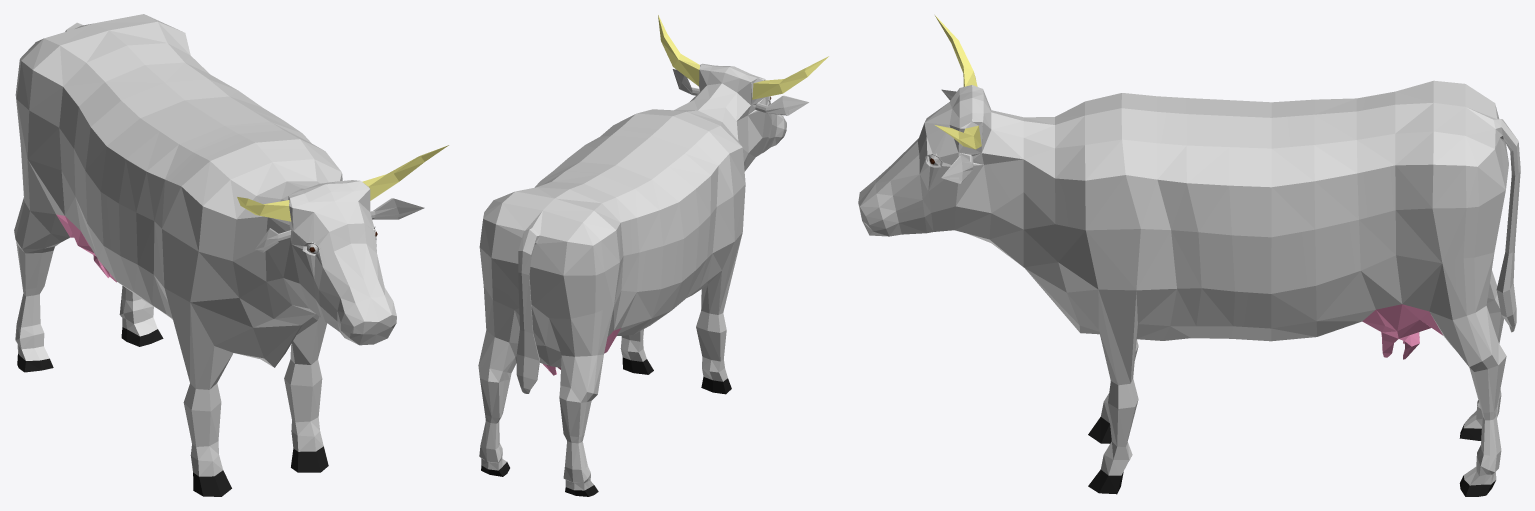
The model's file is cow_with_collider.glb.
3 views of the same model, side by side, from view 1: azimuth 30°, elevation 25°; view 2: azimuth 150°, elevation 25°; view 3: azimuth 270°, elevation 25° (orthographic). The views are drawn at different scales.
Visible parts, largest first — view 1: Cow; view 2: Cow; view 3: Cow.
Boxes of the visible parts, left/top/right/bottom form: Cow: left=14, top=14, right=448, bottom=496; Cow: left=478, top=15, right=828, bottom=496; Cow: left=858, top=15, right=1520, bottom=496.
Size of what is drawn, in the model's own units: 0.91 by 1.5 by 2.3.
